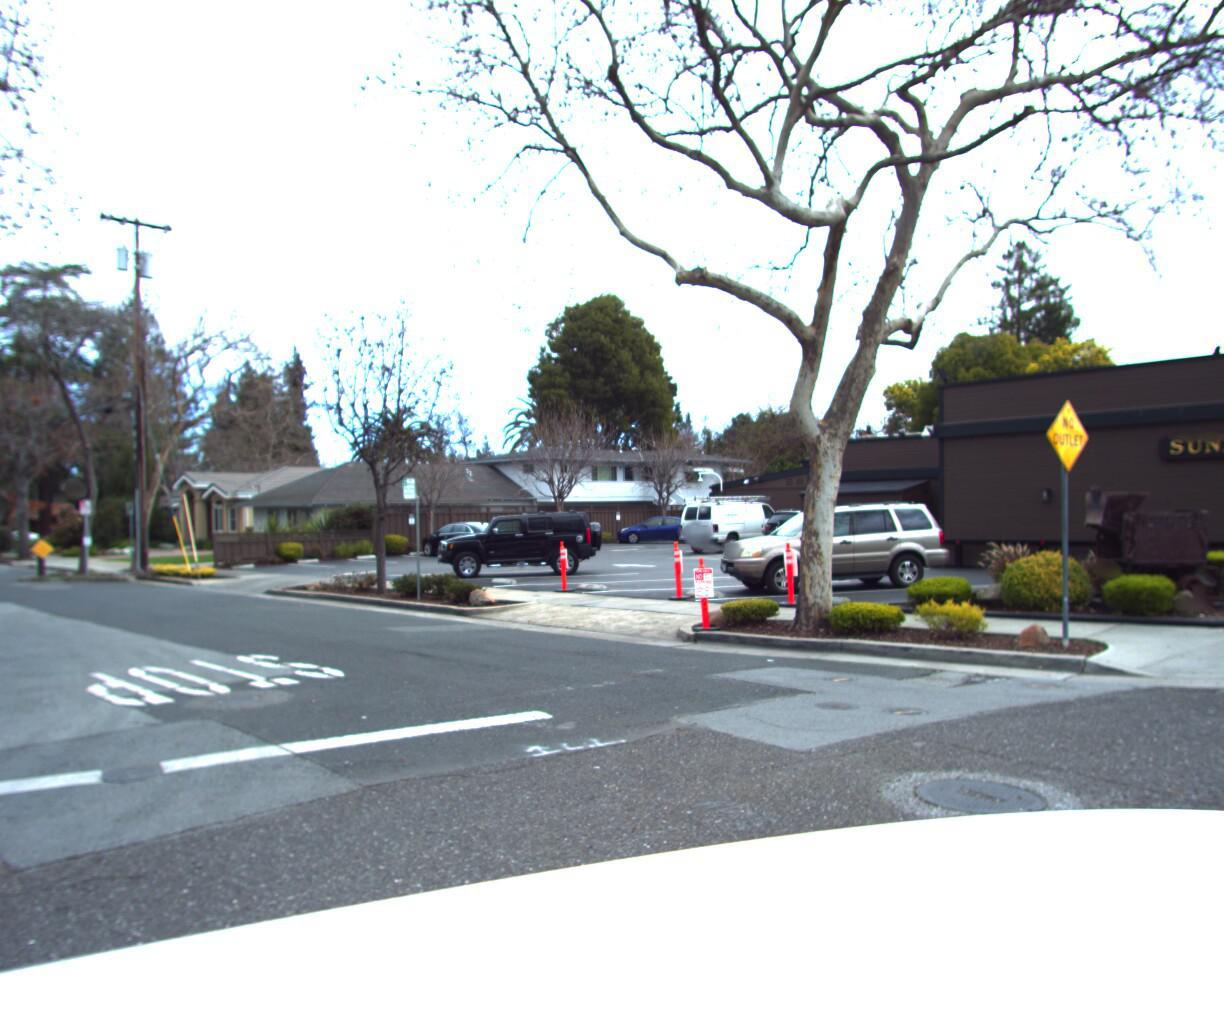car: (709, 489, 971, 589), (429, 497, 612, 571), (0, 521, 3, 555)
